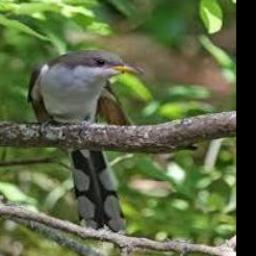Cuckoo: (29, 48, 144, 231)
